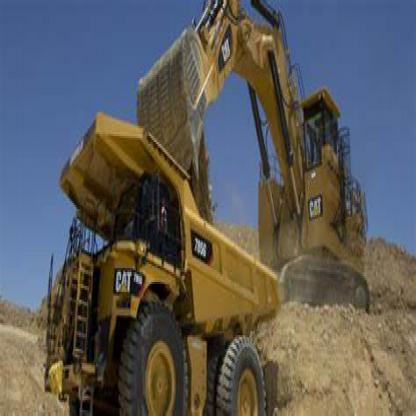dump_truck: (37, 105, 303, 414)
